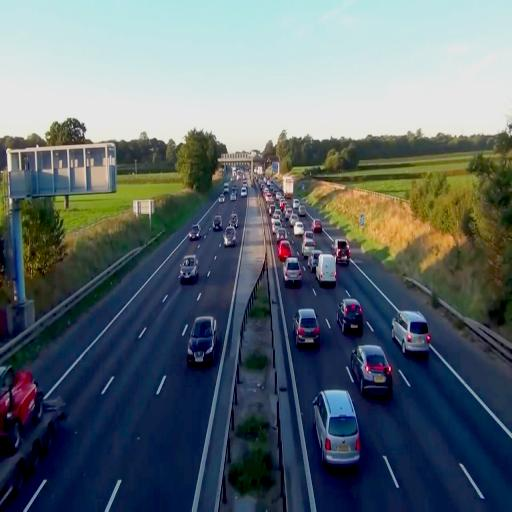vehicle: (0, 370, 59, 504), (312, 388, 362, 469), (349, 343, 392, 397), (392, 310, 431, 356), (186, 314, 216, 366), (294, 307, 320, 347), (338, 297, 363, 334), (316, 253, 337, 285), (179, 255, 198, 283), (284, 258, 302, 285), (334, 240, 350, 264), (223, 223, 237, 246), (189, 224, 201, 240)
